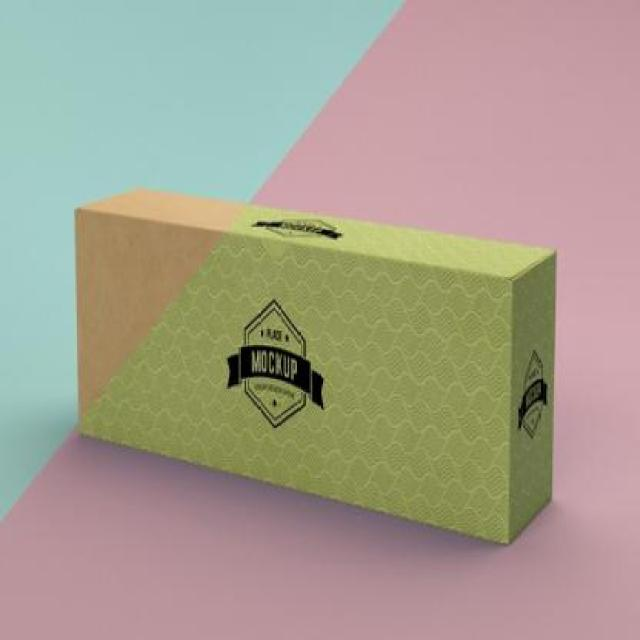box: (67, 177, 581, 576)
